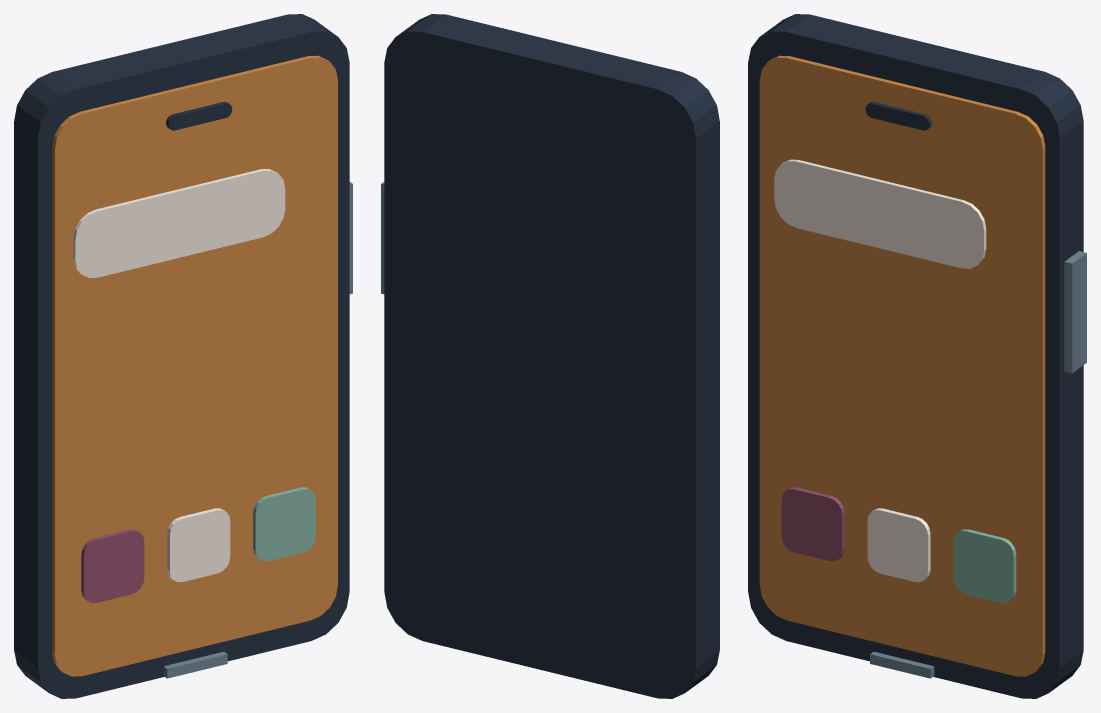
Rendered from phone.glb.
3 renders of one model, left to right at view 1: azimuth 30°, elevation 25°; view 2: azimuth 150°, elevation 25°; view 3: azimuth 330°, elevation 25°, orthographic.
Parts seen in each view (by area): view 1: screen, case, widget, app 1, app 0, app 2, earpiece, port; view 2: case; view 3: screen, case, widget, app 0, app 1, app 2, side switch, earpiece, port.
Boxes of the visible parts, x1,y1,x2,y2 form: screen: [52, 55, 337, 676]; case: [14, 14, 349, 698]; widget: [73, 169, 285, 277]; app 1: [167, 508, 230, 582]; app 0: [81, 529, 144, 603]; app 2: [253, 487, 315, 561]; earpiece: [166, 101, 232, 130]; port: [163, 651, 227, 678]; case: [384, 14, 719, 698]; screen: [759, 55, 1045, 676]; case: [748, 14, 1083, 698]; widget: [774, 159, 986, 268]; app 0: [781, 487, 844, 561]; app 1: [867, 508, 930, 582]; app 2: [953, 529, 1016, 603]; side switch: [1064, 251, 1086, 373]; earpiece: [865, 101, 931, 130]; port: [870, 651, 934, 678].
Bounding box in the file's own units: 1 × 1.83 × 0.166.
